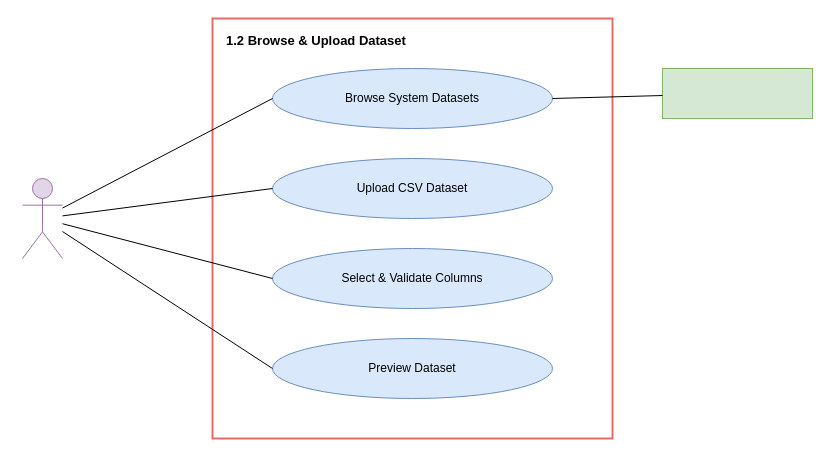
The diagram is 830 pixels wide and 456 high, and some of its shapes have lost their labels. The shapes that lost their labels are listed below. From the top down, each one's centre as x and y in pixels, then its label:
point 737,93: Dataset Providers (Weather / Traffic / ILI)
point 42,218: End User
